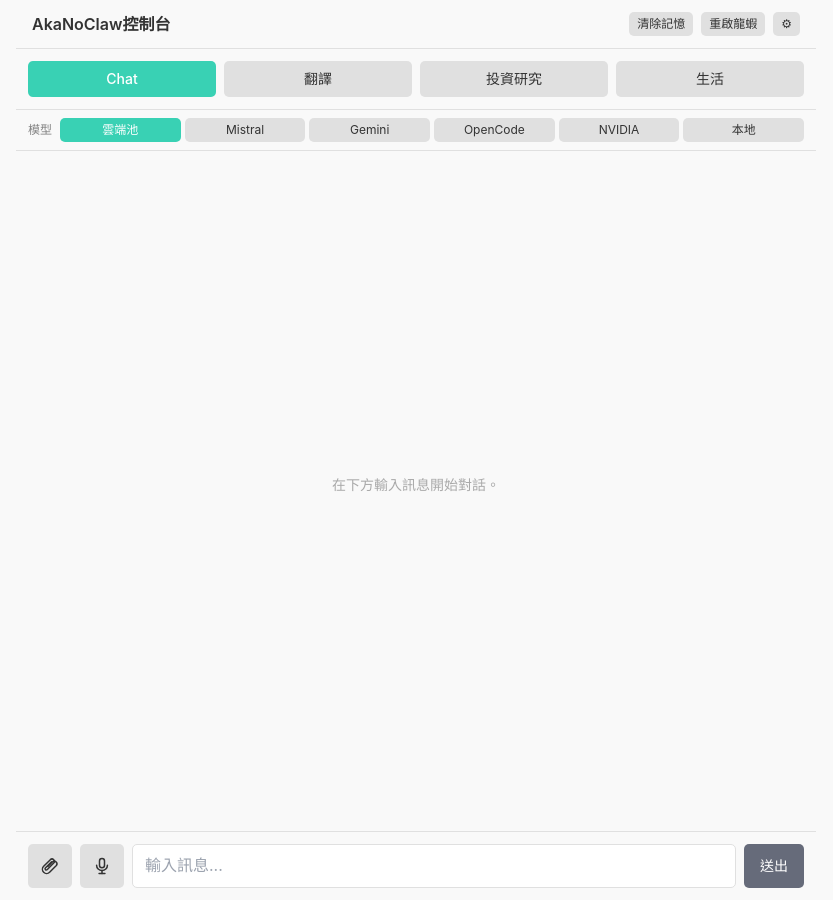
Scenario: CaptureModeChip — workflow › ✕ sends wfe:cancel and clears workflow capture mode
Type "建立 workflow" into the text box at coordinates (434, 866), box top-left (132, 844), bottom-right (736, 888)
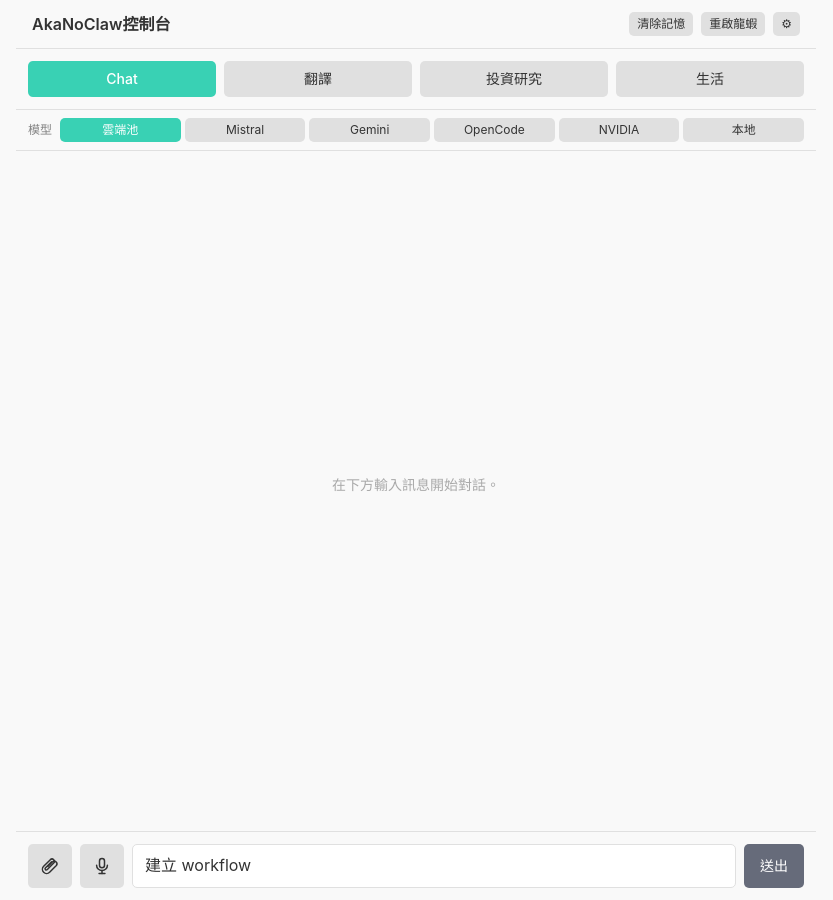
Click the button "送出" at coordinates (774, 866), box top-left (744, 844), bottom-right (804, 888)
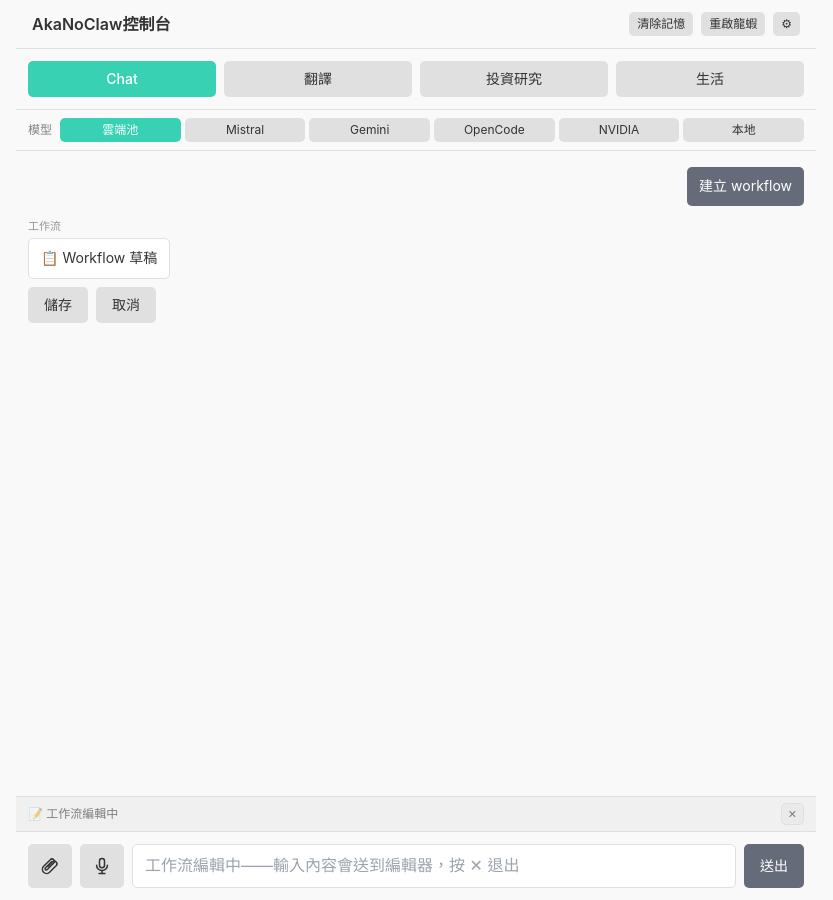
Result: the text "📋 Workflow 草稿" is shown at top-left (28, 238), bottom-right (170, 279)
Click the button named "退出編輯" at coordinates (792, 814), box top-left (781, 802), bottom-right (804, 825)
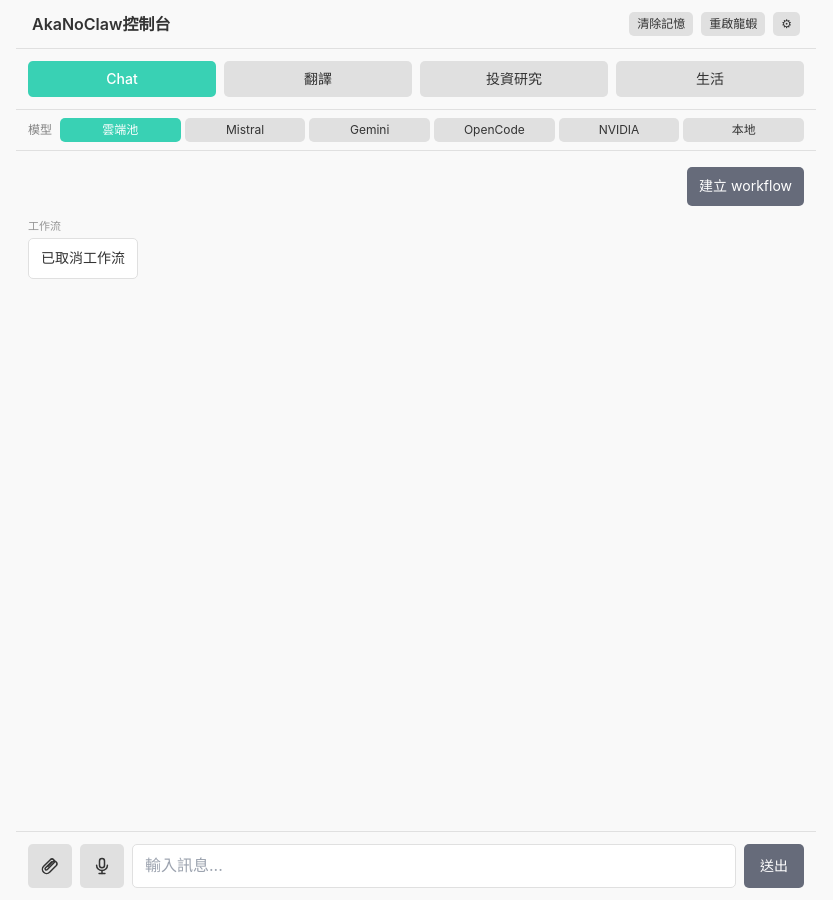
Result: the text "已取消工作流" is shown at top-left (28, 238), bottom-right (138, 279)
Result: the text "📝 工作流編輯中" is gone
